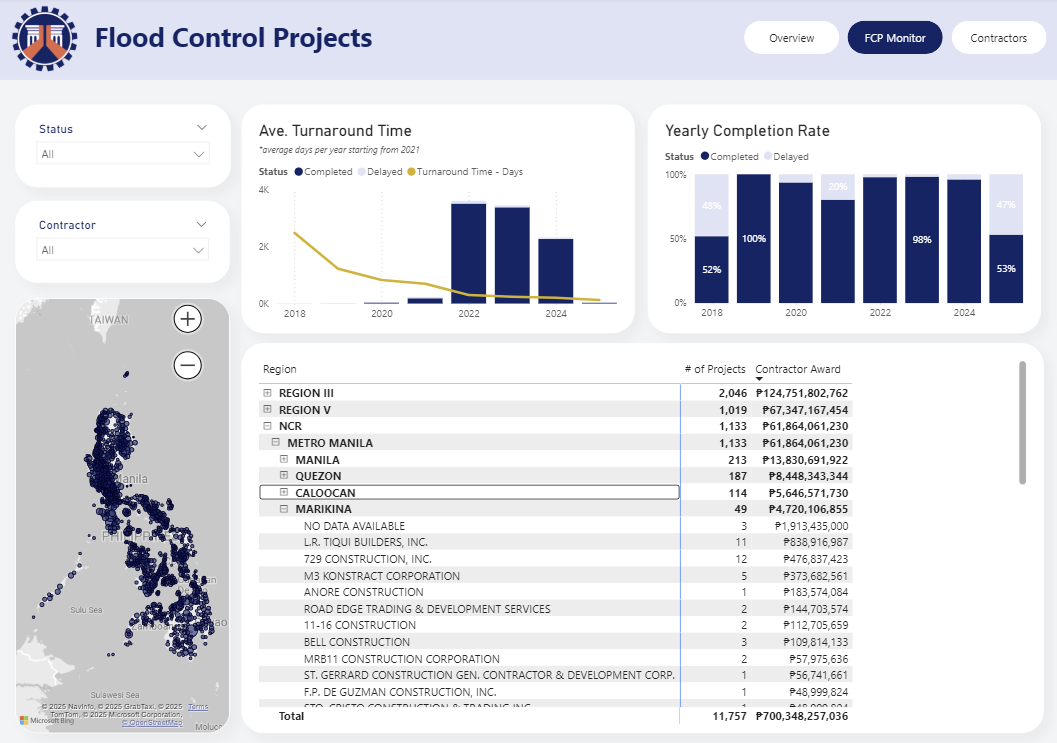

The dashboard page shown, as its layout file describes it:
{"tool":"powerbi","page":{"name":"FCP Monitor","canvas":[1280,900],"ordinal":1},"visuals":[{"type":"shape","box":[0,0,1280,100],"z":0,"group":"g1"},{"type":"group","id":"g1","title":"Group 1","box":[0,0,1280,100],"z":1000},{"type":"image","box":[0,0,110,100],"z":1000,"group":"g1"},{"type":"textbox","box":[110,21.4,364.3,55.7],"z":2000,"group":"g1"},{"type":"hundredPercentStackedColumnChart","title":"Yearly Completion Rate","fields":{"Category":["Date Table.Date Hierarchy.Year"],"Y":["M_Table.Contractor Award"],"Series":["F_Projects.Status"]},"box":[783,129.7,474,276],"z":2000},{"type":"lineStackedColumnComboChart","title":"Ave. Turnaround Time","fields":{"Category":["Date Table.Date Hierarchy.Year"],"Series":["F_Projects.Status"],"Y2":["M_Table.Turnaround Time - Days"],"Y":["M_Table.# of Projects"]},"box":[292.6,129.7,474,276],"z":3000},{"type":"map","fields":{"Size":["Sum(F_Projects.Cost)"],"Category":["D_Location.Geo Hierarchy.Country","D_Location.Geo Hierarchy.Region","D_Location.Geo Hierarchy.Province","D_Location.Geo Hierarchy.City","D_Location.Geo Hierarchy.Barangay"]},"box":[19.6,363.4,259.4,524.8],"z":4000},{"type":"pivotTable","fields":{"Rows":["D_Location.Geo Hierarchy.Region","D_Location.Geo Hierarchy.Province","D_Location.Geo Hierarchy.City","D_Contractors.Contractor"],"Values":["M_Table.# of Projects","M_Table.Contractor Award"]},"box":[292.6,417.7,968.2,470.5],"z":5000},{"type":"slicer","fields":{"Values":["F_Projects.Status"]},"box":[19.6,130,260,100],"z":6000},{"type":"slicer","fields":{"Values":["D_Contractors.Contractor"]},"box":[19.6,245.8,259.4,99.5],"z":8000},{"type":"pageNavigator","box":[898.8,28.8,366.2,40],"z":16000,"group":"g1"}]}

Visuals, with their boxes in screenshot pixels (x1, y1, x2, y2), scaled from the page's 1280x900 canvas onto the 1057x743 screenshot:
shape: l=0, t=0, r=1056, b=83
"Group 1" group: l=0, t=0, r=1056, b=83
image: l=0, t=0, r=91, b=83
textbox: l=91, t=18, r=392, b=64
"Yearly Completion Rate" hundredPercentStackedColumnChart: l=647, t=107, r=1038, b=335
"Ave. Turnaround Time" lineStackedColumnComboChart: l=242, t=107, r=633, b=335
map - Sum(F_Projects.Cost) x D_Location.Geo Hierarchy.Country: l=16, t=300, r=230, b=733
pivotTable - D_Location.Geo Hierarchy.Region x D_Location.Geo Hierarchy.Province: l=242, t=345, r=1041, b=733
slicer - F_Projects.Status: l=16, t=107, r=231, b=190
slicer - D_Contractors.Contractor: l=16, t=203, r=230, b=285
pageNavigator: l=742, t=24, r=1045, b=57
